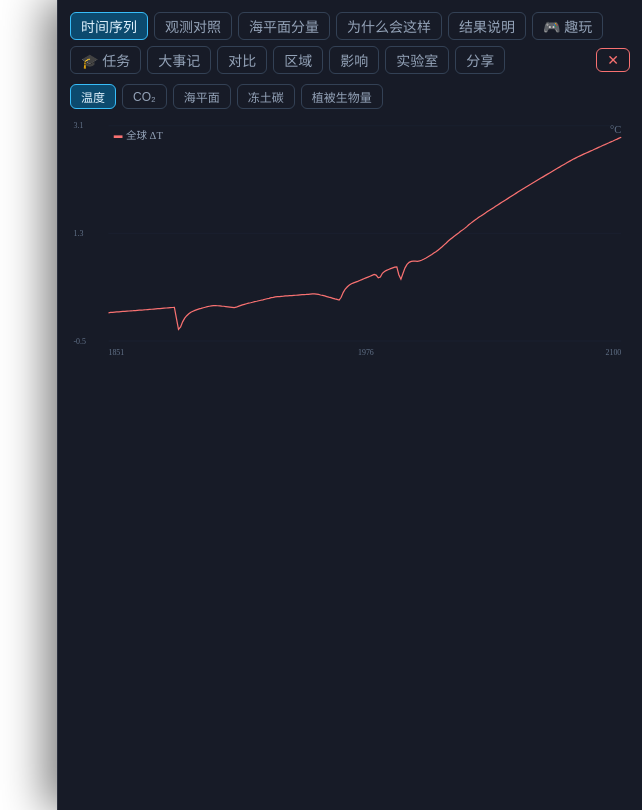
Test: v0.2 分析抽屉（G0/UX-02） › 五个 tab 可切换且渲染对应面板
Click the tab "观测对照" at (193, 26), box [154,12,232,40]
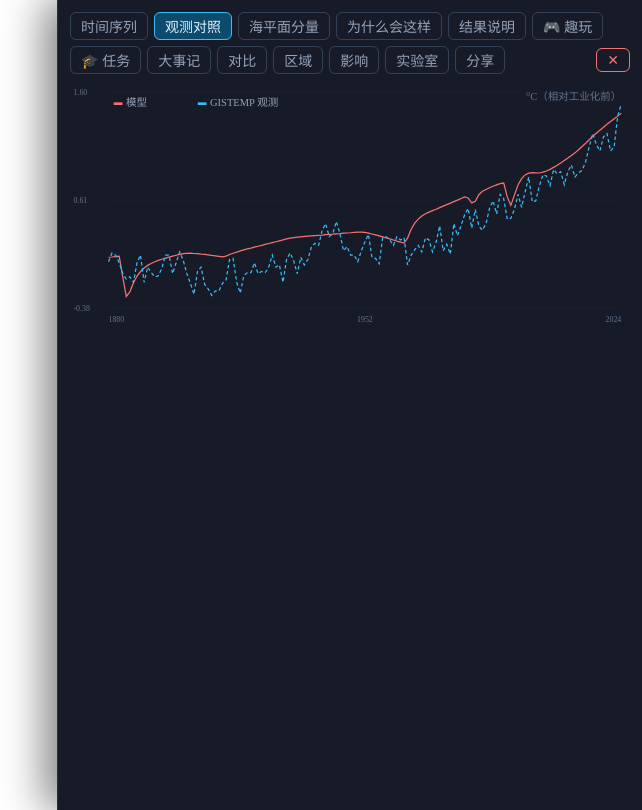
Expected: the text "GISTEMP 观测" is shown, [210,97,278,108]
Click the tab "海平面分量" at (284, 26), box [238,12,330,40]
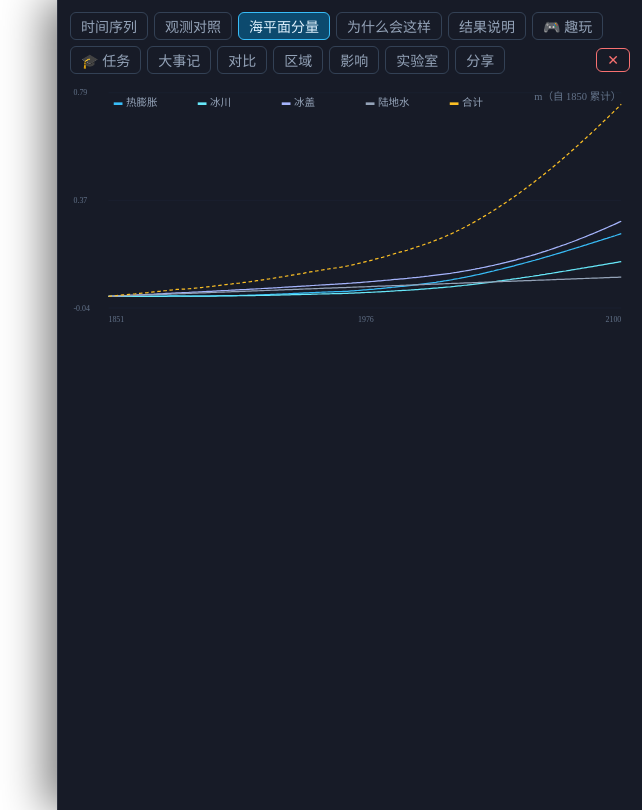
Expected: the text "热膨胀" is shown, [126,97,158,108]
Click the tab "为什么会这样" at (389, 26), box [336,12,442,40]
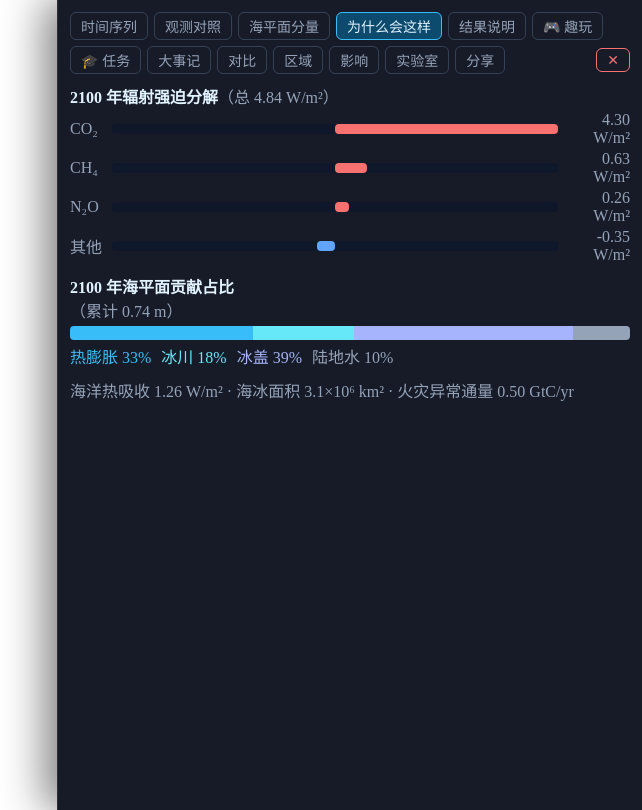
Result: the element with test id "contribution-panel" is shown at [70,84,630,402]
Click the tab "结果说明" at (487, 26), box [448,12,526,40]
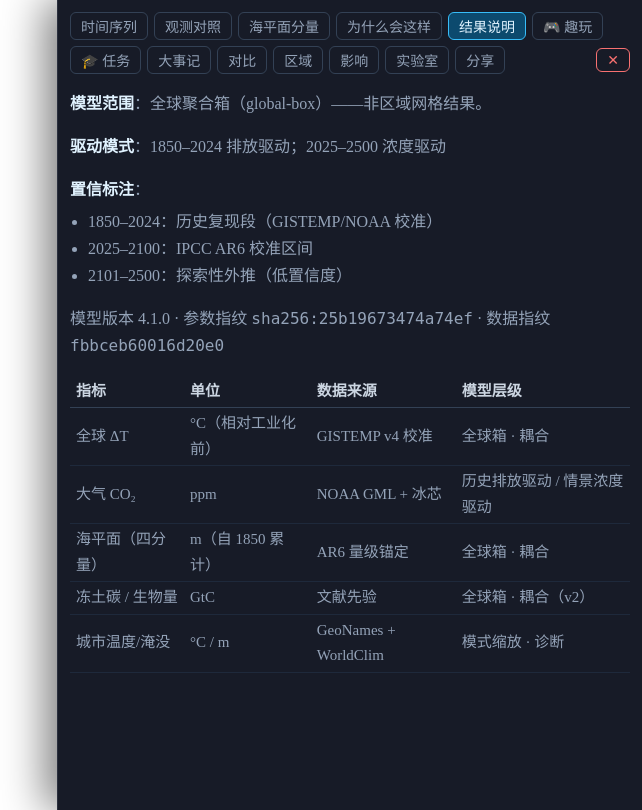
Result: the element with test id "metadata-panel" is shown
Result: the list item "2101–2500：探索性外推（低置信度）" is shown at [88,267,352,284]
